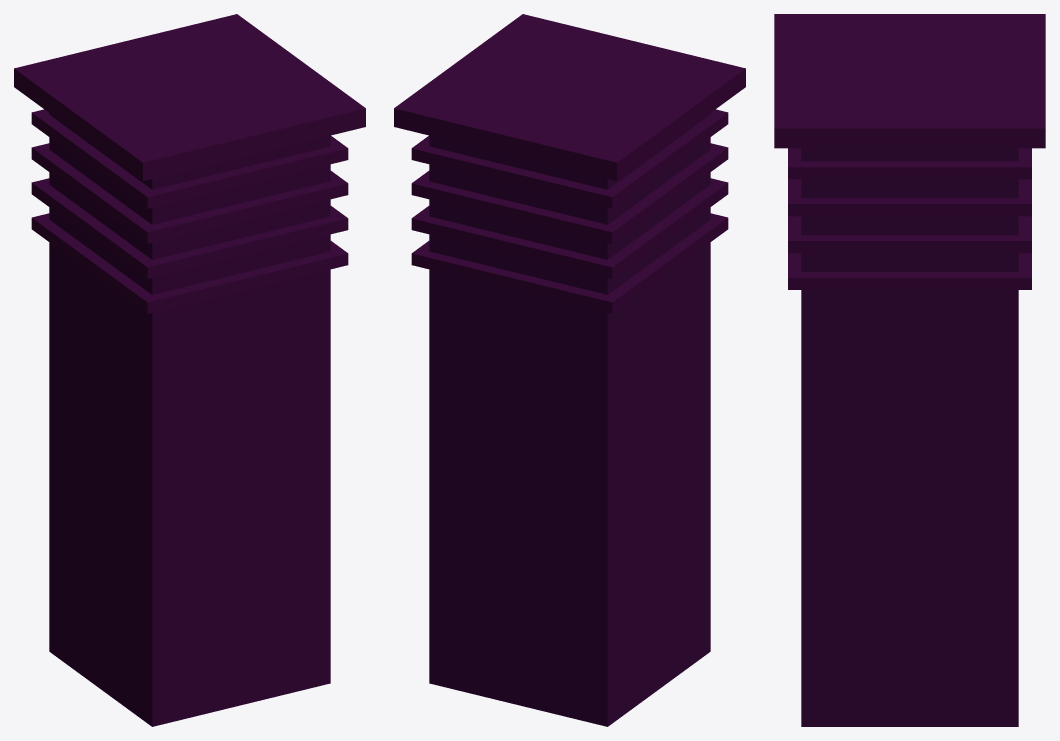
The model's file is vent.glb.
The picture shows the model from 3 angles, left to right: view 1: azimuth 30°, elevation 25°; view 2: azimuth 150°, elevation 25°; view 3: azimuth 270°, elevation 25°; orthographic projection. The views are drawn at different scales.
Visible parts, largest first — view 1: vent; view 2: vent; view 3: vent.
Boxes of the visible parts, left/top/right/bottom form: vent: left=14, top=14, right=365, bottom=726; vent: left=394, top=14, right=745, bottom=726; vent: left=774, top=14, right=1045, bottom=726.
Size of the model in its own units: 1 by 2.48 by 1.
